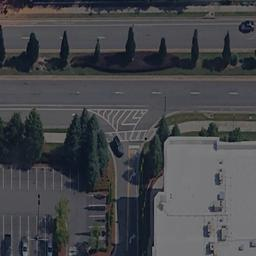Car: (237, 21, 256, 33)
Chevron: (88, 108, 146, 131)
Crosswalk: (101, 132, 151, 140)
Double Solid Yellow Line: (127, 150, 128, 252)
Right Turn Arrow: (129, 233, 136, 242)
Solid White Line: (1, 104, 147, 110)
Stopline: (127, 144, 140, 149)
White Dashed Line: (8, 90, 251, 96), (20, 37, 108, 38)
